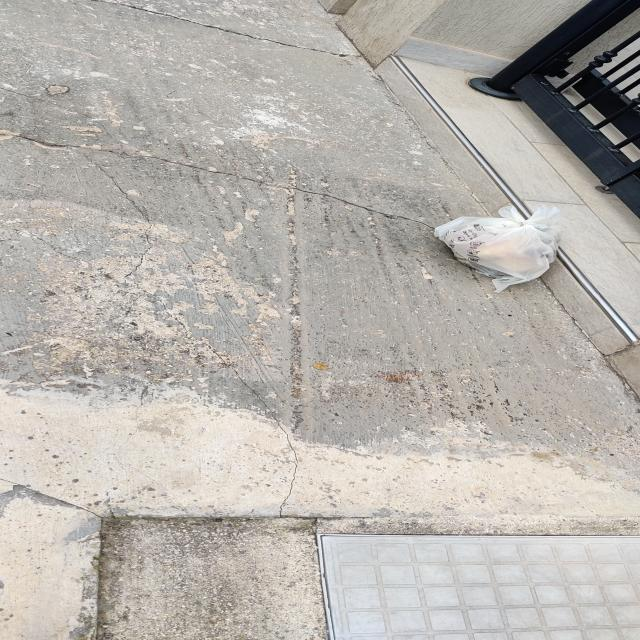Organic Waste -White Bags-: (432, 208, 561, 291)
